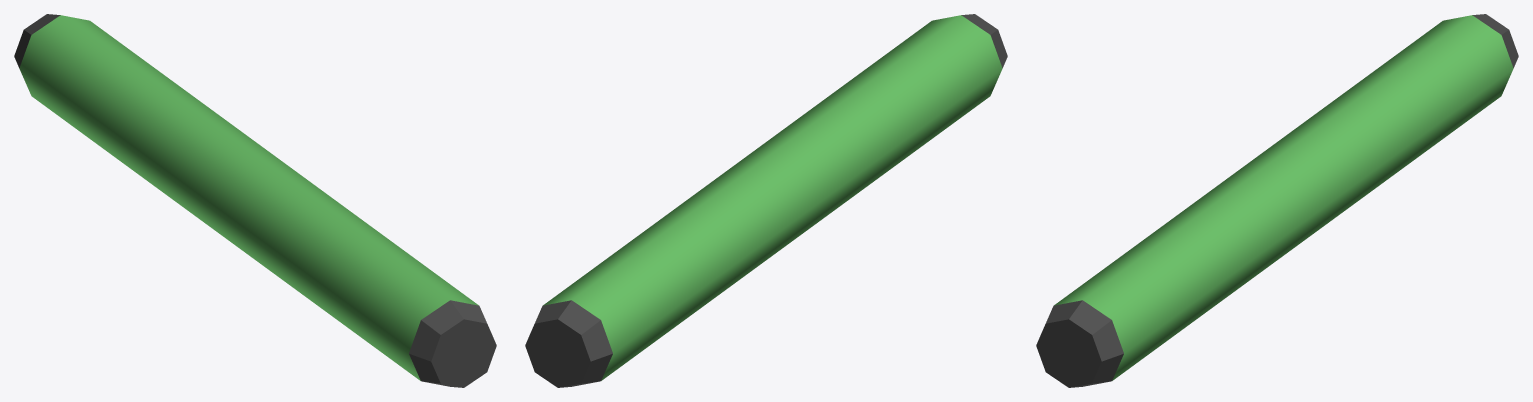
File: rod_stick_3.FBX
3 views of the same model, side by side, from view 1: azimuth 30°, elevation 25°; view 2: azimuth 150°, elevation 25°; view 3: azimuth 330°, elevation 25° (orthographic).
Visible parts, largest first — view 1: rod_stick_3; view 2: rod_stick_3; view 3: rod_stick_3.
Boxes of the visible parts, bbox=[...] form: rod_stick_3: bbox=[14, 14, 496, 387]; rod_stick_3: bbox=[525, 14, 1007, 387]; rod_stick_3: bbox=[1036, 14, 1518, 387].
Size of the model in its own units: 3.11 by 3.11 by 27.12.
